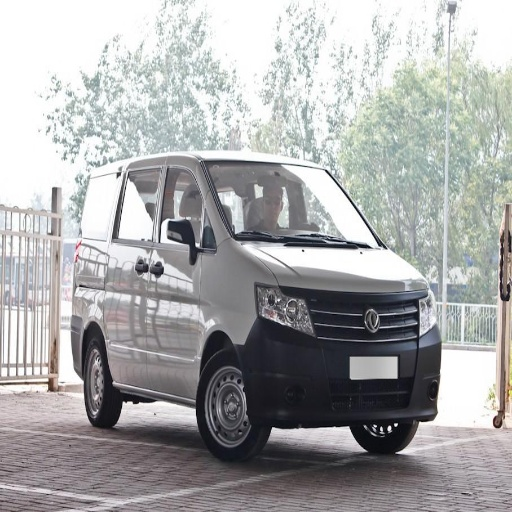front_bumper: (239, 289, 442, 426)
front_right_door: (143, 159, 219, 394)
front_right_light: (255, 281, 313, 335)
